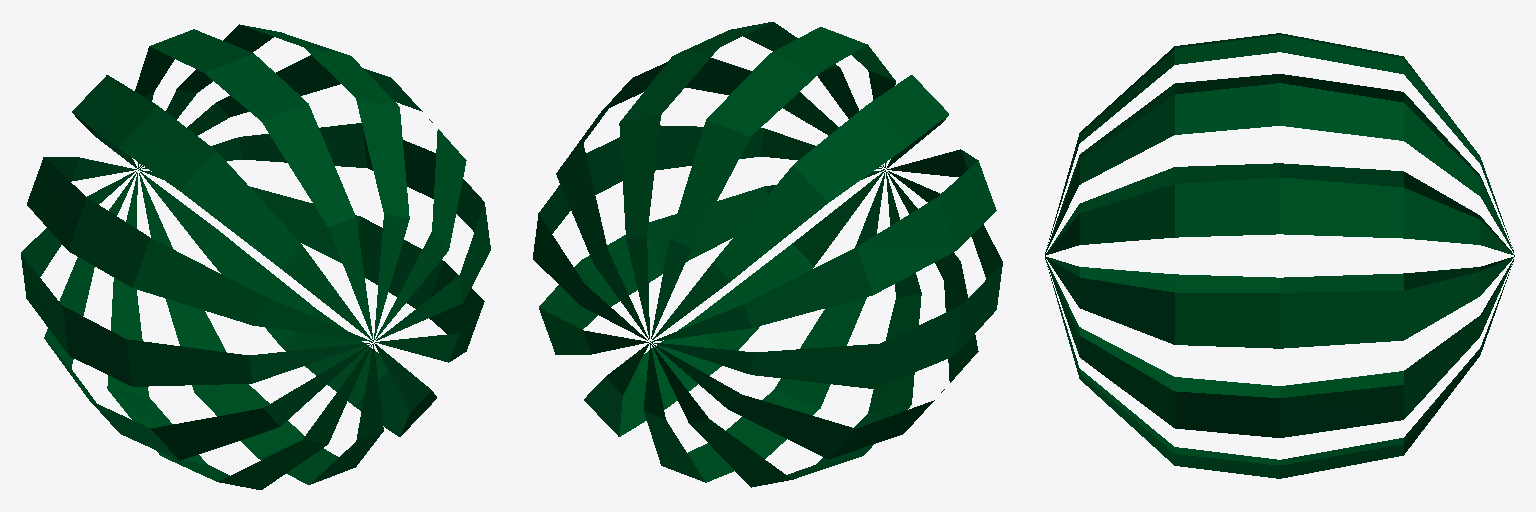
3 views of the same model, side by side, from view 1: azimuth 30°, elevation 25°; view 2: azimuth 150°, elevation 25°; view 3: azimuth 270°, elevation 25° (orthographic).
Parts seen in each view (by area): view 1: Plane; view 2: Plane; view 3: Plane.
Boxes of the visible parts, box(x1,y1,x2,y2) form: Plane: box(21, 24, 490, 489); Plane: box(533, 22, 1002, 487); Plane: box(1045, 33, 1514, 478).
Size of the model in its own units: 19.02 by 19.02 by 20.
1 materials, 1 textured.